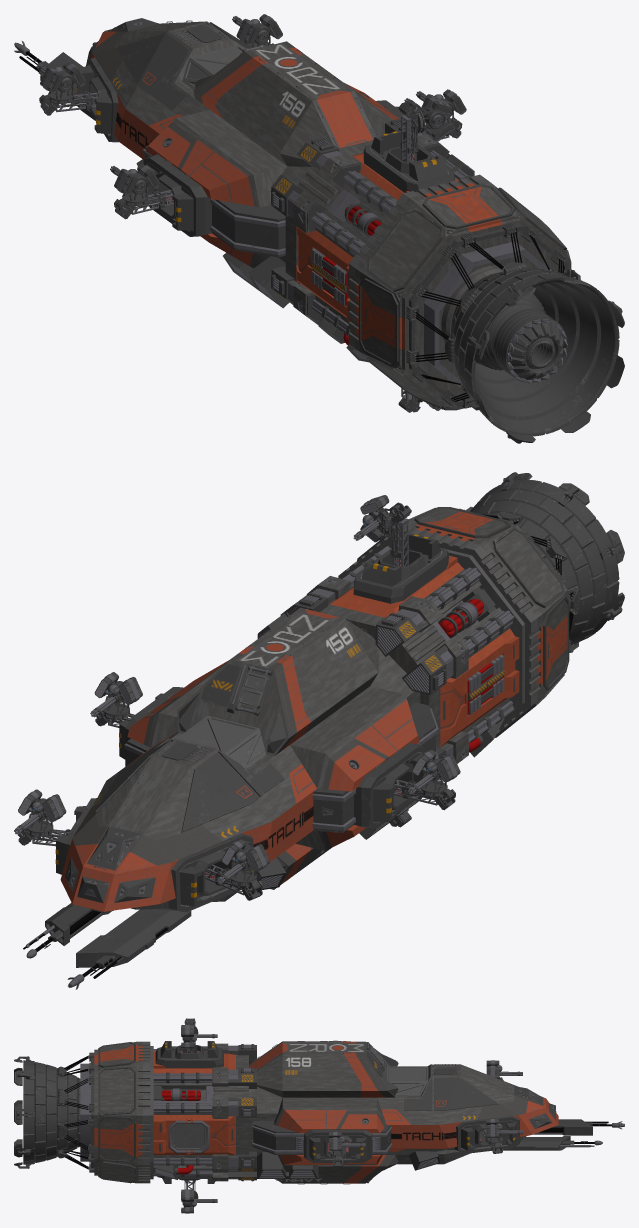
3 views of the same model, one above another, from view 1: azimuth 30°, elevation 25°; view 2: azimuth 150°, elevation 25°; view 3: azimuth 270°, elevation 25° (orthographic). The views are drawn at different scales.
Parts seen in each view (by area): view 1: Aft_Section, Fore_Section, Nozzle_and_PDCs, Aft_Section_Aft_Turret_Nest_Upper, Fore_Section_Airlock_Blast_Door, PDC_Main_Body.003, PDC_Main_Body.001, PDC_Main_Body.004, PDC_Main_Body.002, Fore_Section_Fore_Turret_Nest_L, Fore_Section_Mid_Turret_Nest_L, PDC_Pivot.004 (+2 smaller); view 2: Fore_Section, Aft_Section, Nozzle_and_PDCs, Fore_Section_Airlock_Blast_Door, Aft_Section_Aft_Turret_Nest_Upper, PDC_Main_Body.002, PDC_Main_Body.001, PDC_Main_Body.003, PDC_Main_Body.000, Fore_Section_Mid_Turret_Nest_L, PDC_Pivot.004, PDC_Main_Body.004 (+2 smaller); view 3: Fore_Section, Aft_Section, Nozzle_and_PDCs, Fore_Section_Airlock_Blast_Door, Fore_Section_Fore_Turret_Nest_R, Fore_Section_Mid_Turret_Nest_R, Fore_Section_Mid_Turret_Nest_Railings_R, Fore_Section_Fore_Turret_Nest_Railings_R, Aft_Section_Aft_Turret_Nest_Upper, Aft_Section_Aft_Turret_Nest_Railings_Upper, PDC_Main_Body.002, PDC_Main_Body.005 (+2 smaller).
Part boxes in pixels (left/top/right/bottom): Aft_Section: left=271, top=118, right=571, bottom=410; Fore_Section: left=14, top=18, right=567, bottom=408; Nozzle_and_PDCs: left=165, top=153, right=624, bottom=443; Aft_Section_Aft_Turret_Nest_Upper: left=371, top=129, right=447, bottom=181; Fore_Section_Airlock_Blast_Door: left=182, top=45, right=244, bottom=89; PDC_Main_Body.003: left=40, top=62, right=86, bottom=102; PDC_Main_Body.001: left=114, top=164, right=160, bottom=204; PDC_Main_Body.004: left=418, top=96, right=452, bottom=141; PDC_Main_Body.002: left=236, top=14, right=282, bottom=47; Fore_Section_Fore_Turret_Nest_L: left=76, top=65, right=111, bottom=134; Fore_Section_Mid_Turret_Nest_L: left=137, top=164, right=193, bottom=230; PDC_Pivot.004: left=398, top=100, right=420, bottom=162; Fore_Section: left=23, top=526, right=565, bottom=989; Aft_Section: left=257, top=507, right=569, bottom=763; Nozzle_and_PDCs: left=205, top=472, right=624, bottom=879; Fore_Section_Airlock_Blast_Door: left=176, top=716, right=266, bottom=767; Aft_Section_Aft_Turret_Nest_Upper: left=361, top=533, right=440, bottom=586; PDC_Main_Body.002: left=18, top=789, right=66, bottom=835; PDC_Main_Body.001: left=412, top=749, right=460, bottom=795; PDC_Main_Body.003: left=221, top=839, right=269, bottom=884; PDC_Main_Body.000: left=94, top=672, right=142, bottom=717; Fore_Section_Mid_Turret_Nest_L: left=373, top=753, right=425, bottom=822; PDC_Pivot.004: left=388, top=502, right=411, bottom=566; PDC_Main_Body.004: left=360, top=495, right=391, bottom=542; Fore_Section: left=98, top=1041, right=624, bottom=1184; Aft_Section: left=80, top=1041, right=256, bottom=1183; Nozzle_and_PDCs: left=14, top=1050, right=481, bottom=1172; Fore_Section_Airlock_Blast_Door: left=387, top=1066, right=428, bottom=1095; Fore_Section_Fore_Turret_Nest_R: left=461, top=1121, right=516, bottom=1150; Fore_Section_Mid_Turret_Nest_R: left=309, top=1136, right=366, bottom=1160; Fore_Section_Mid_Turret_Nest_Railings_R: left=316, top=1136, right=360, bottom=1158; Fore_Section_Fore_Turret_Nest_Railings_R: left=470, top=1122, right=509, bottom=1147; Aft_Section_Aft_Turret_Nest_Upper: left=160, top=1041, right=218, bottom=1058; Aft_Section_Aft_Turret_Nest_Railings_Upper: left=171, top=1045, right=207, bottom=1058; PDC_Main_Body.002: left=486, top=1119, right=503, bottom=1144; PDC_Main_Body.005: left=181, top=1189, right=198, bottom=1213.
Bounding box in the file's own units: 799 × 686 × 2011.
3 materials, 3 textured.
